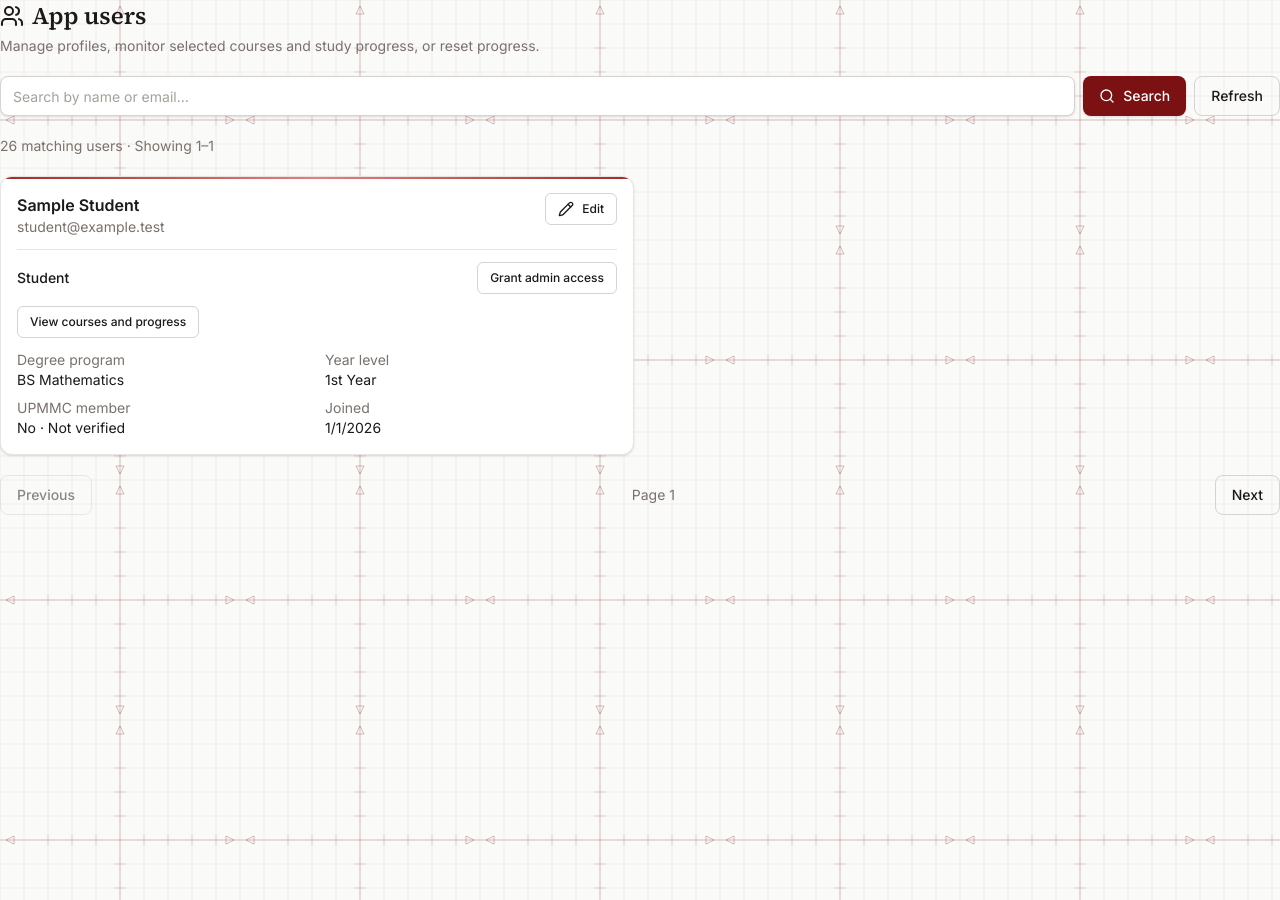
Test: admin users › edits a user and refreshes after saving
Click the button with aria-label "Edit Sample Student" at coordinates (581, 209), box [545, 193, 617, 225]
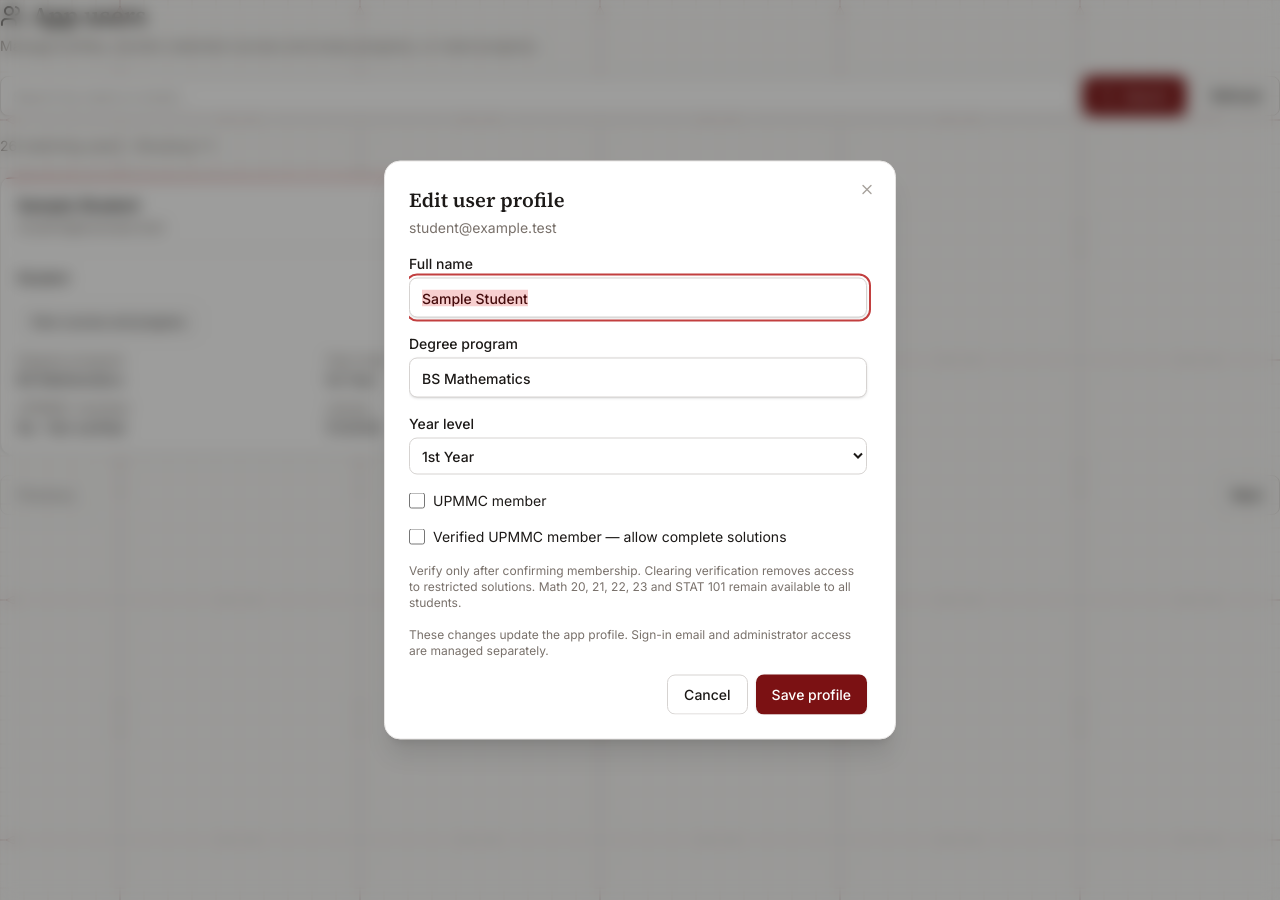
Replace the text in the field labelled "Full name" with "Updated Student" at coordinates (638, 298), box [409, 278, 867, 318]
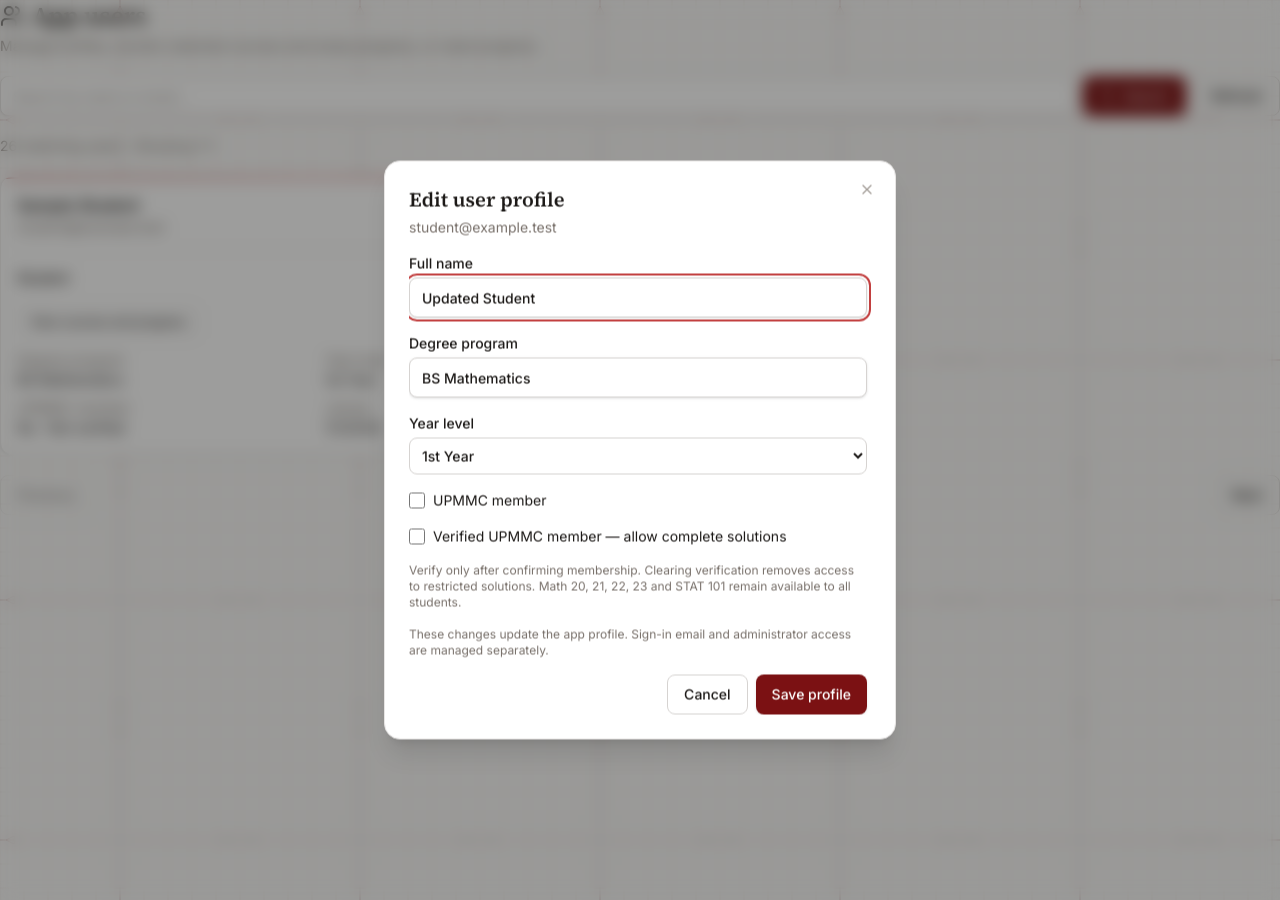
Click the button "Save profile" at coordinates (811, 694), box [756, 674, 867, 714]
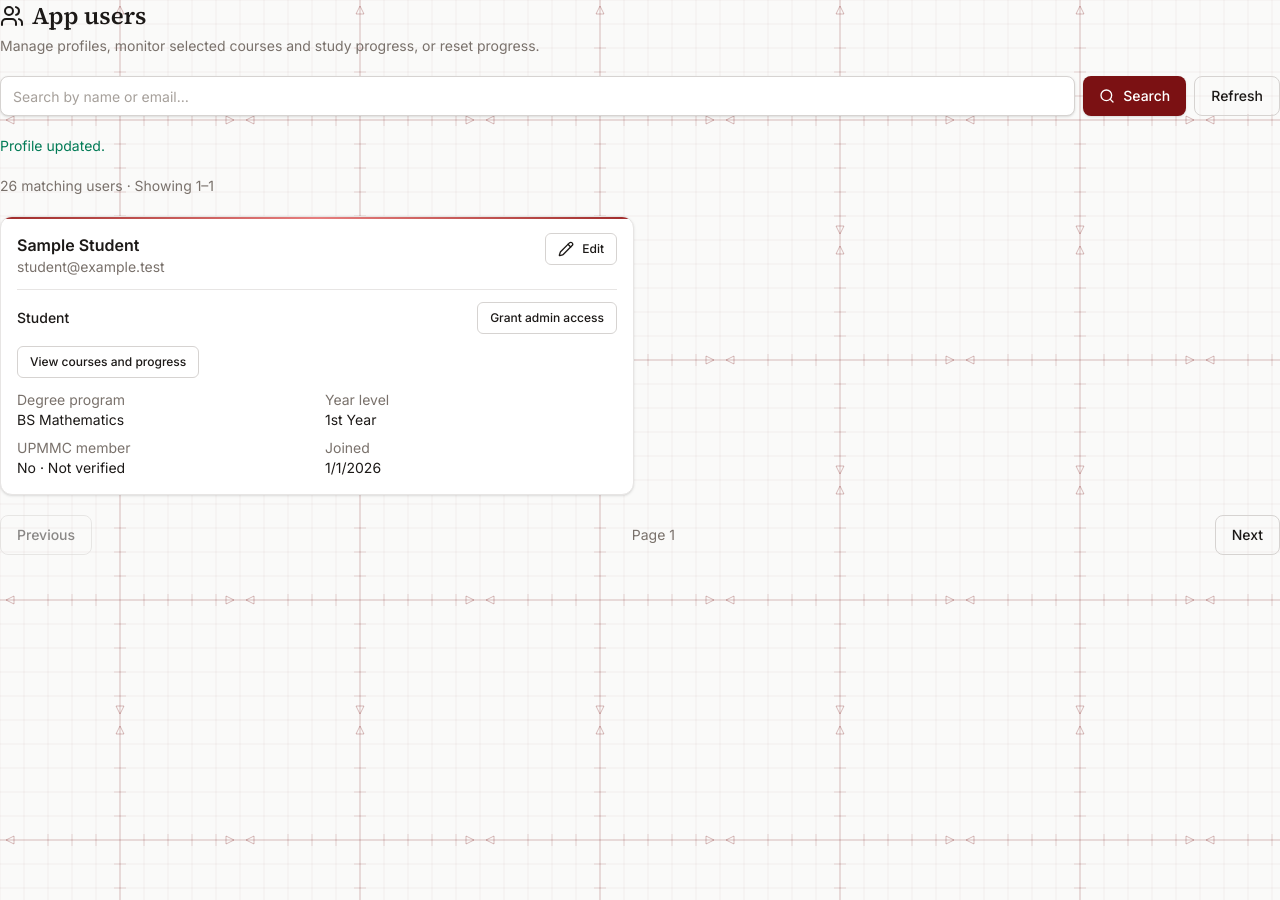
Expected: the text "Profile updated." is shown, [0, 137, 105, 154]
Expected: the dialog is gone
